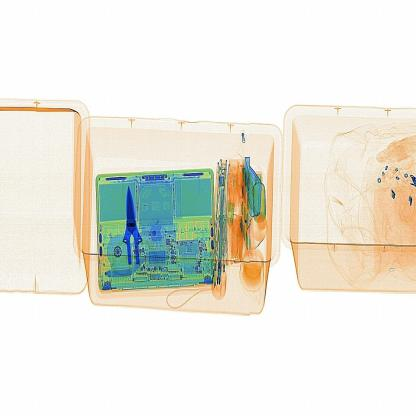gun: (101, 180, 162, 282)
